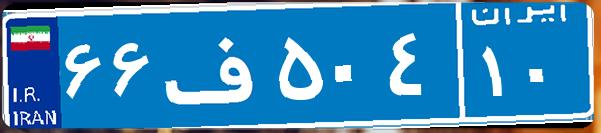0: (330, 28, 385, 110), (525, 38, 570, 115)
1: (475, 38, 525, 113)
4: (385, 28, 445, 110)
5: (273, 28, 330, 110)
6: (57, 26, 110, 107), (110, 28, 158, 105)
ف: (158, 15, 273, 115)
